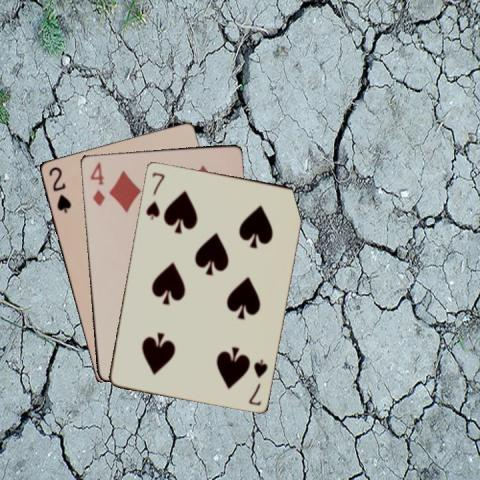2s: (45, 163, 73, 215)
4d: (87, 160, 106, 207)
7s: (245, 355, 269, 407), (143, 168, 166, 220)
